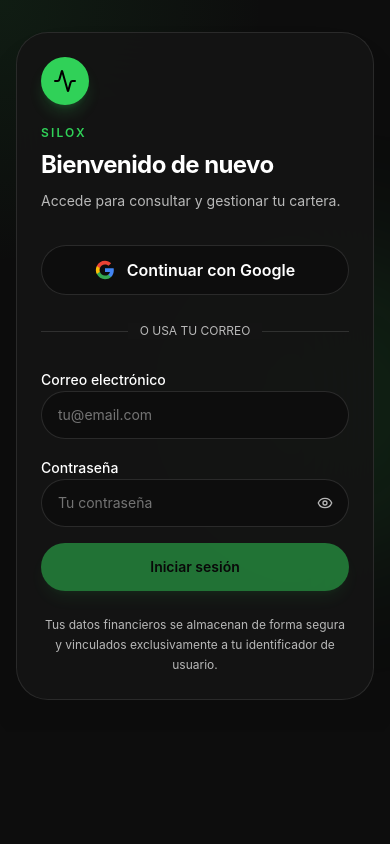
it: Login page › exposes labelled authentication controls and toggles password visibility
Expected: the button "Iniciar sesión" is disabled, [41,543,349,591]
Type "user@example.com" into the field labelled "Correo electrónico". click: (195, 415)
box: [41,391,349,439]
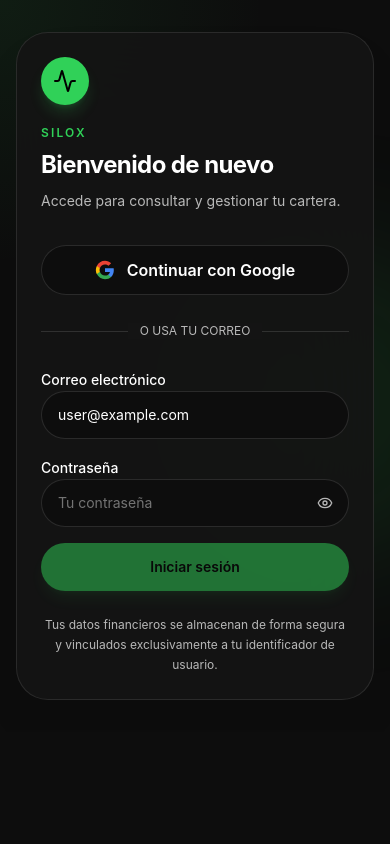
Type "secret" into the password field labelled "Contraseña". click: (195, 503)
box: [41,479,349,527]
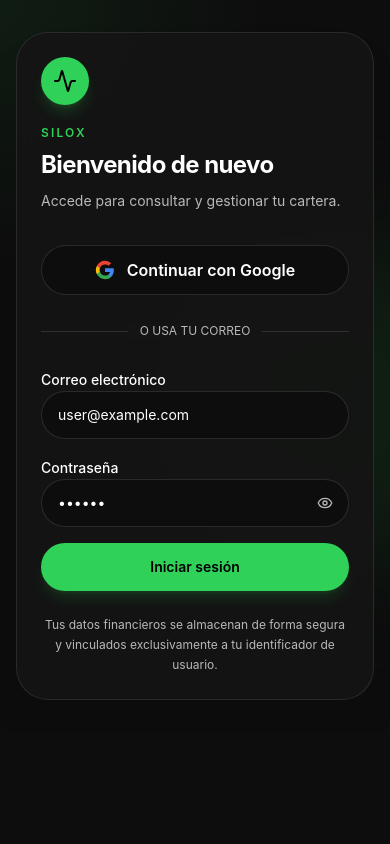
Expected: the button "Iniciar sesión" is enabled, [41,543,349,591]
Click the button named "Mostrar contraseña". click: (325, 503)
box: [301,479,349,527]
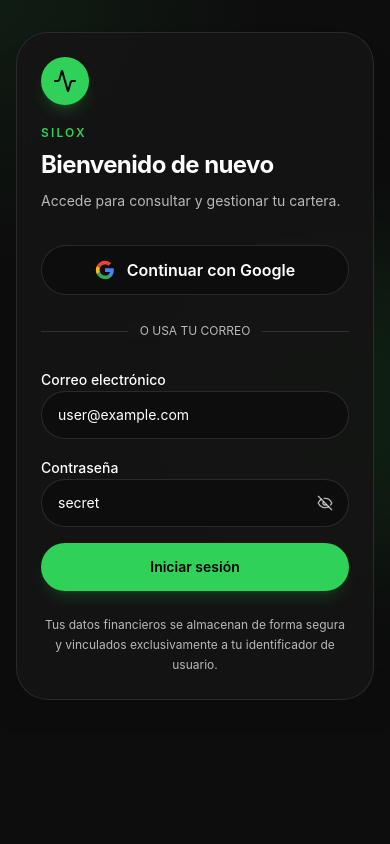
Expected: the field labelled "Contraseña" shows its text, [41,479,349,527]
